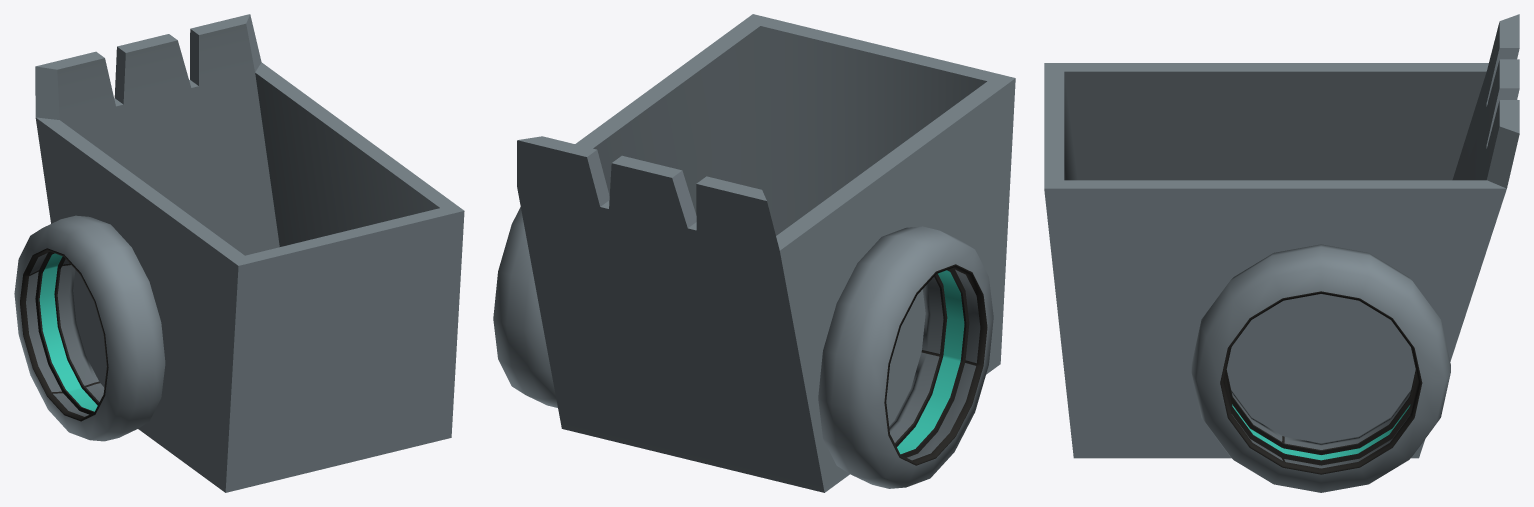
Rendered from SM_carrello.fbx.
3 renders of one model, left to right at view 1: azimuth 30°, elevation 25°; view 2: azimuth 150°, elevation 25°; view 3: azimuth 270°, elevation 25°, orthographic. The views are drawn at different scales.
Parts seen in each view (by area): view 1: polySurface3; view 2: polySurface3; view 3: polySurface3.
Part boxes in pixels (<box>): polySurface3: <box>14,14,464,492</box>; polySurface3: <box>493,14,1015,492</box>; polySurface3: <box>1044,14,1519,492</box>.
Bounding box in the file's own units: 886 × 749 × 964.
